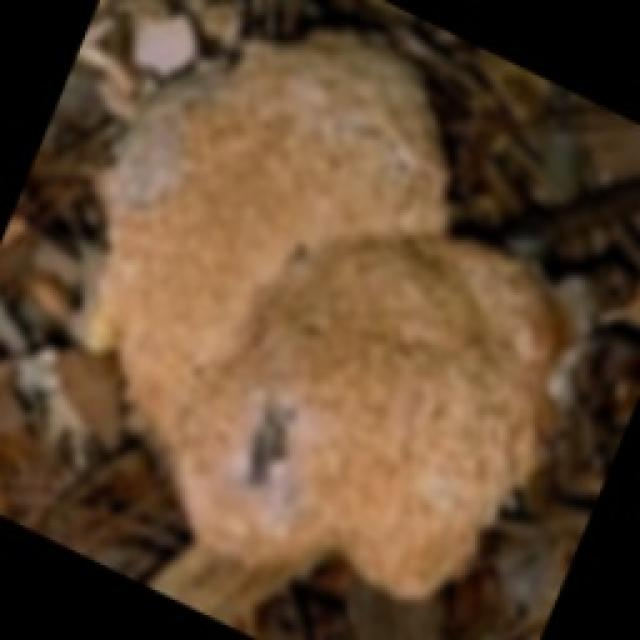Dog_vomit_slime_mold: (68, 54, 600, 597)
